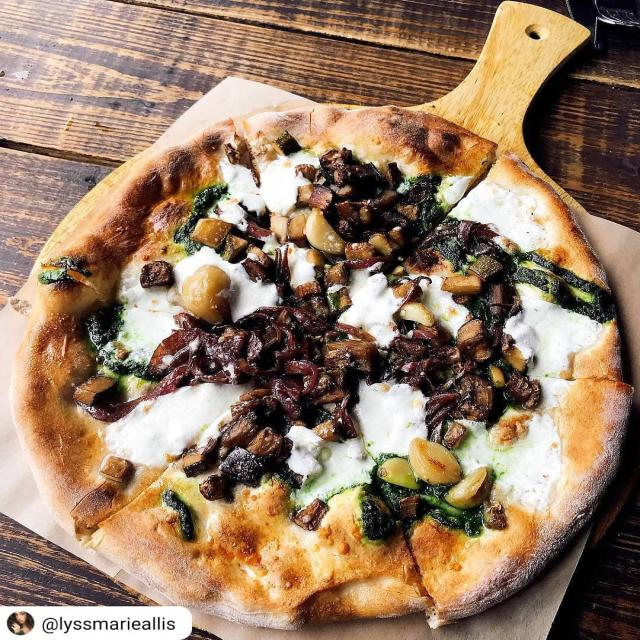pizza: (13, 105, 631, 627)
